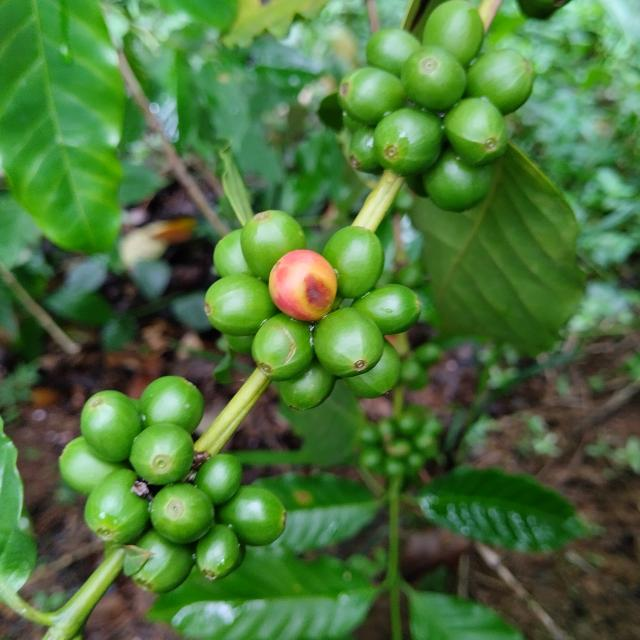green: (313, 307, 384, 378), (84, 469, 149, 544), (374, 107, 444, 176), (240, 210, 306, 281), (204, 274, 279, 336), (466, 48, 535, 114), (80, 391, 143, 463), (444, 97, 509, 166), (323, 226, 385, 298), (423, 149, 493, 212), (251, 313, 315, 381), (401, 45, 467, 110), (217, 486, 286, 547), (131, 530, 194, 595), (423, 0, 485, 66), (149, 483, 214, 545), (339, 66, 408, 124), (129, 424, 193, 486), (58, 436, 124, 496), (138, 376, 204, 433), (351, 284, 422, 335), (343, 340, 402, 399), (279, 359, 337, 411), (366, 27, 422, 76), (195, 525, 244, 581), (194, 455, 242, 506), (213, 229, 253, 277), (349, 124, 383, 174)
red: (269, 249, 338, 321)
